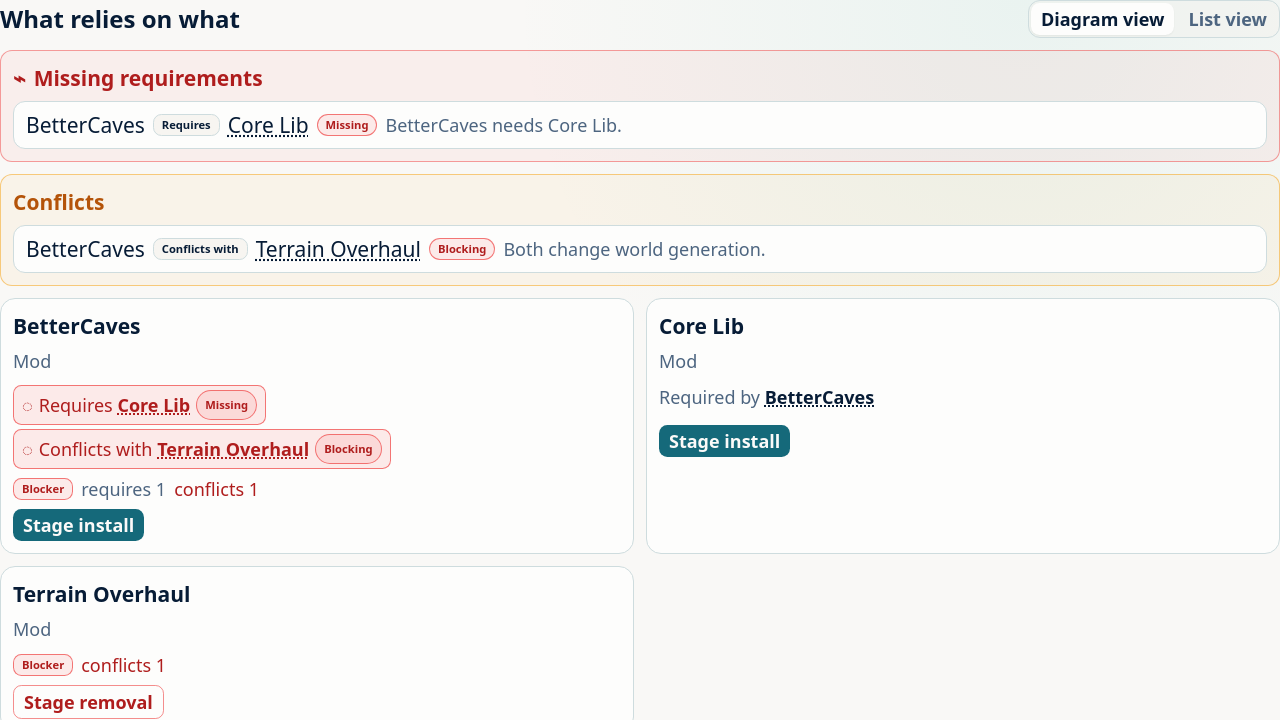
Test: ContentGraph › list view exposes the full linear relationship list
The width and height of the screenshot is (1280, 720).
Step 1. Click the button "List view" → (1228, 19), box [1178,3,1277,35]
(page scrolled)
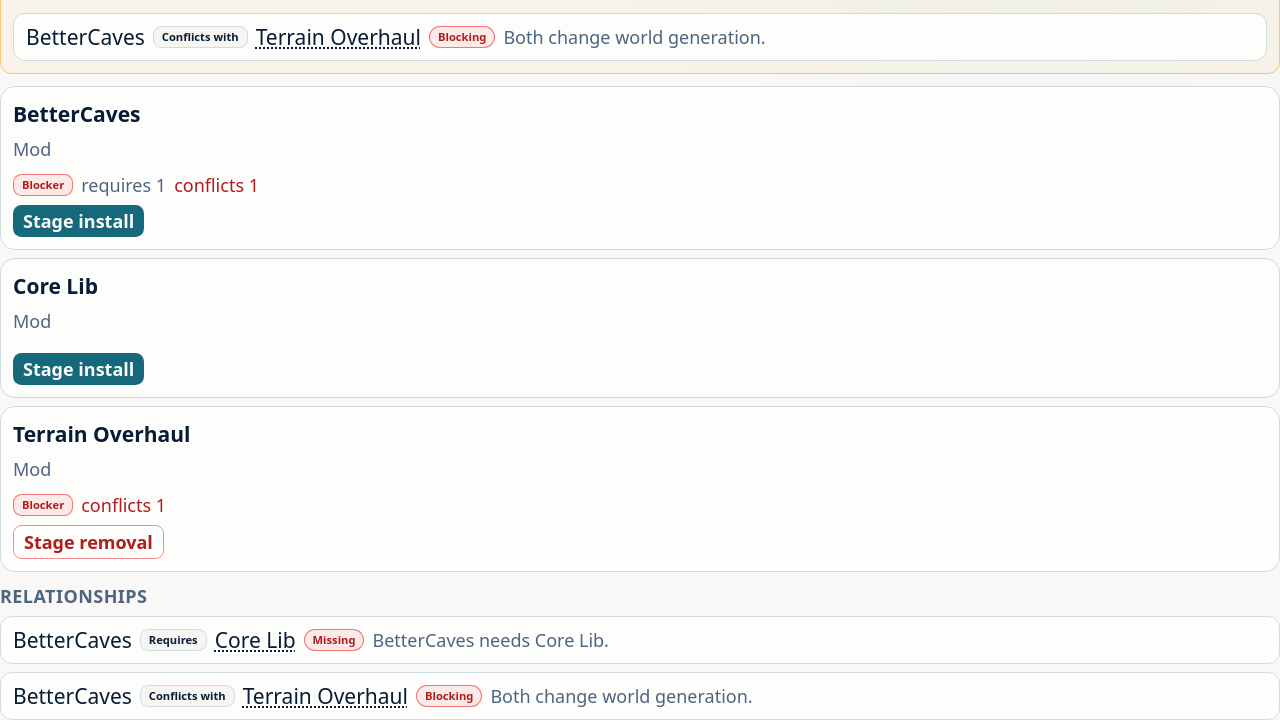
Expected: the heading "Relationships" is shown, [0,584,147,608]
